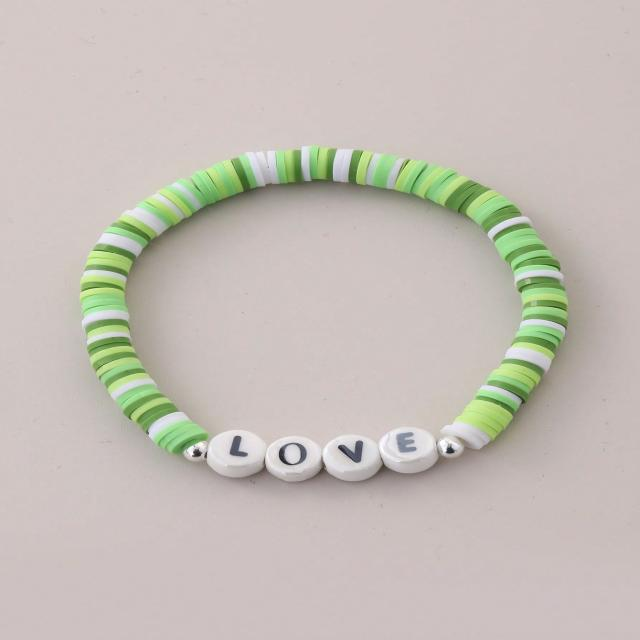bracelet: (12, 89, 582, 536)
